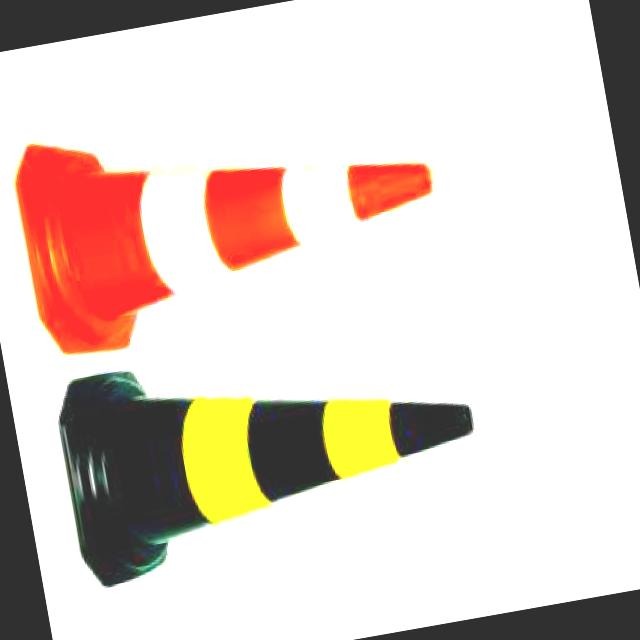cone: (38, 298, 484, 590), (2, 90, 448, 362)
